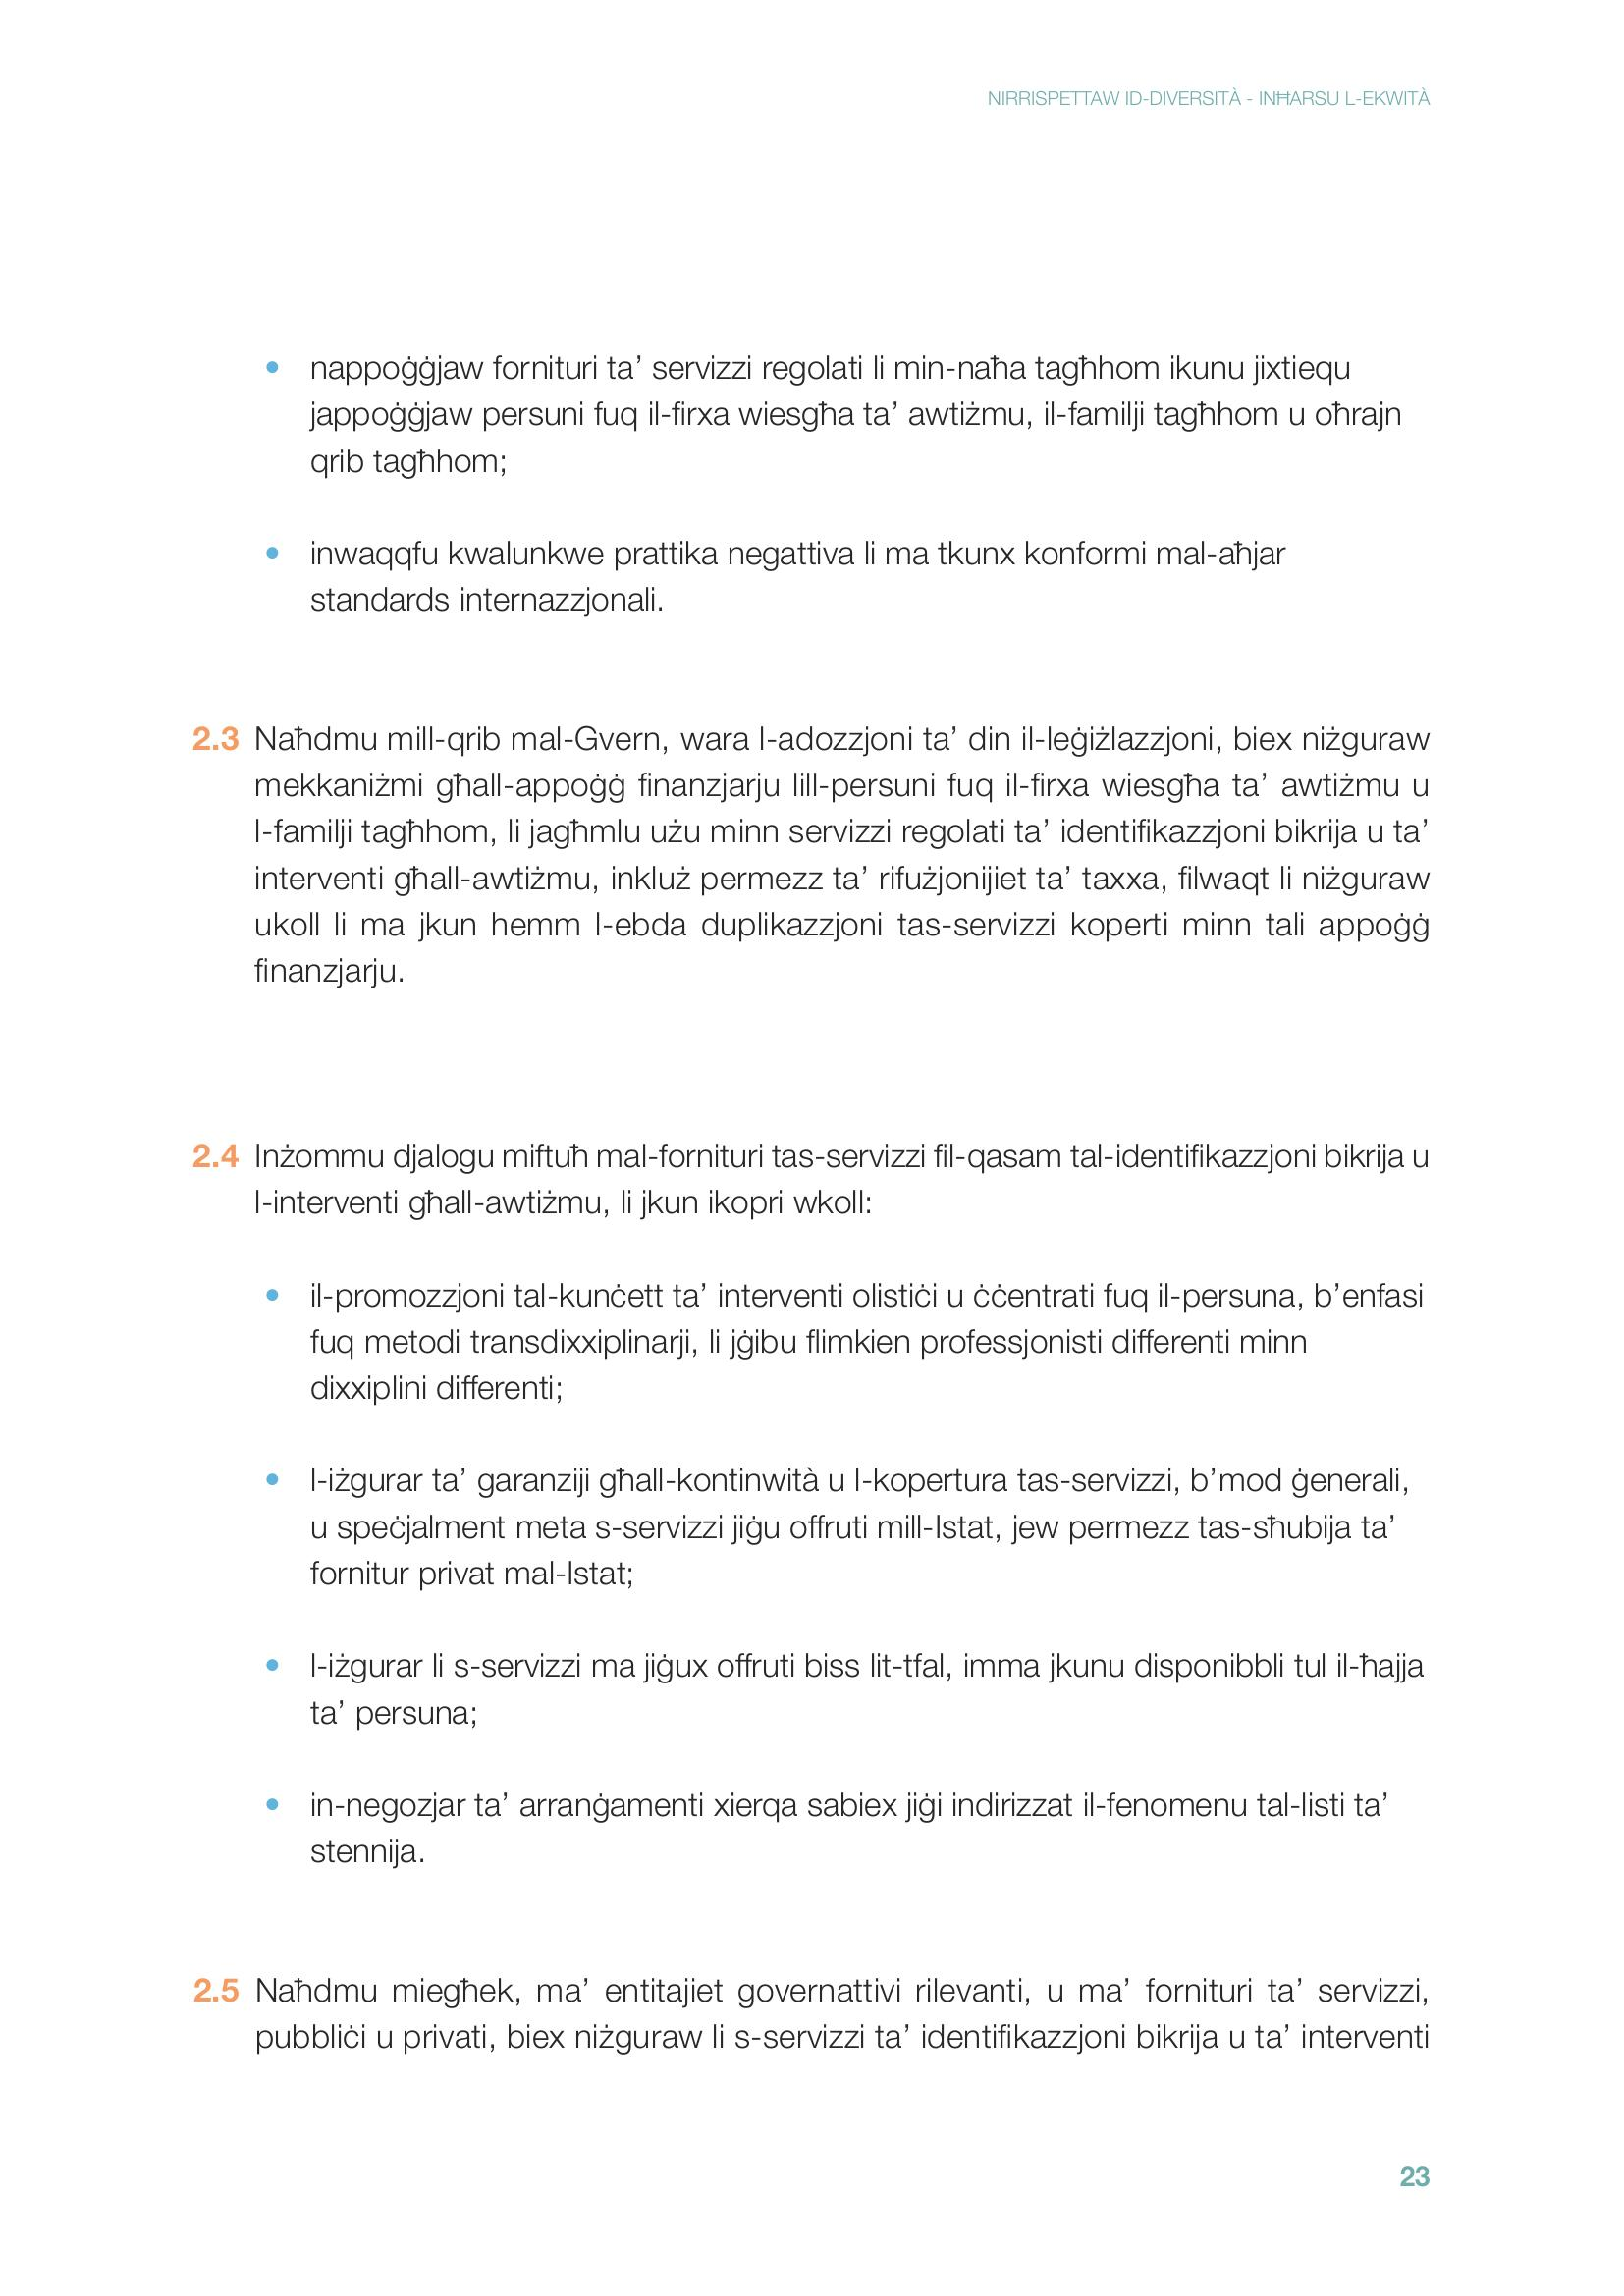text: (146, 314, 1461, 2103)
